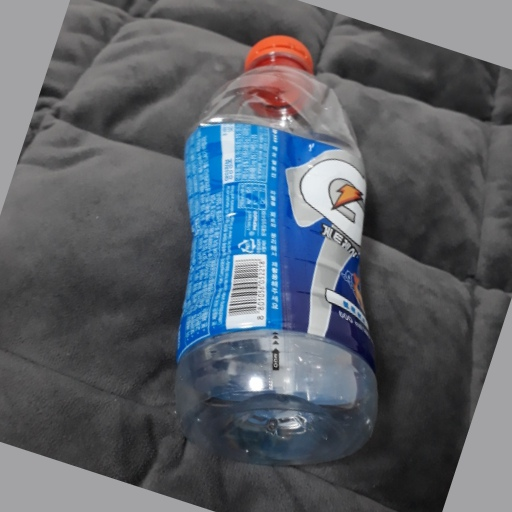Plastic_0: (174, 33, 380, 461)
